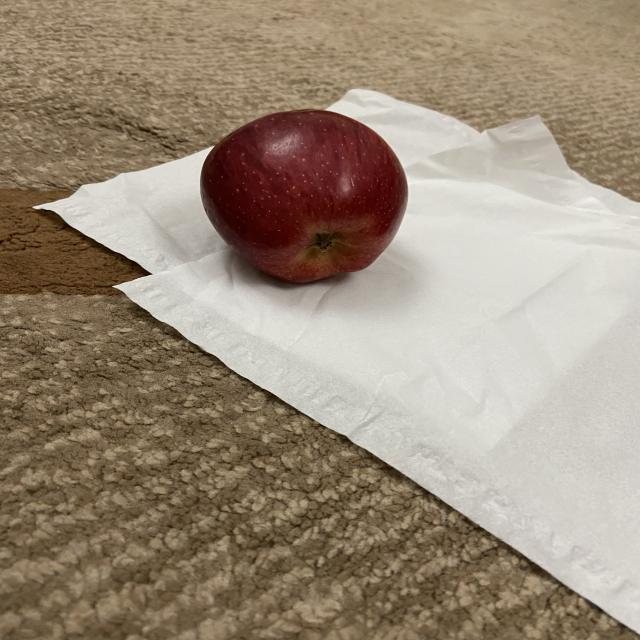apple: (198, 104, 416, 290)
